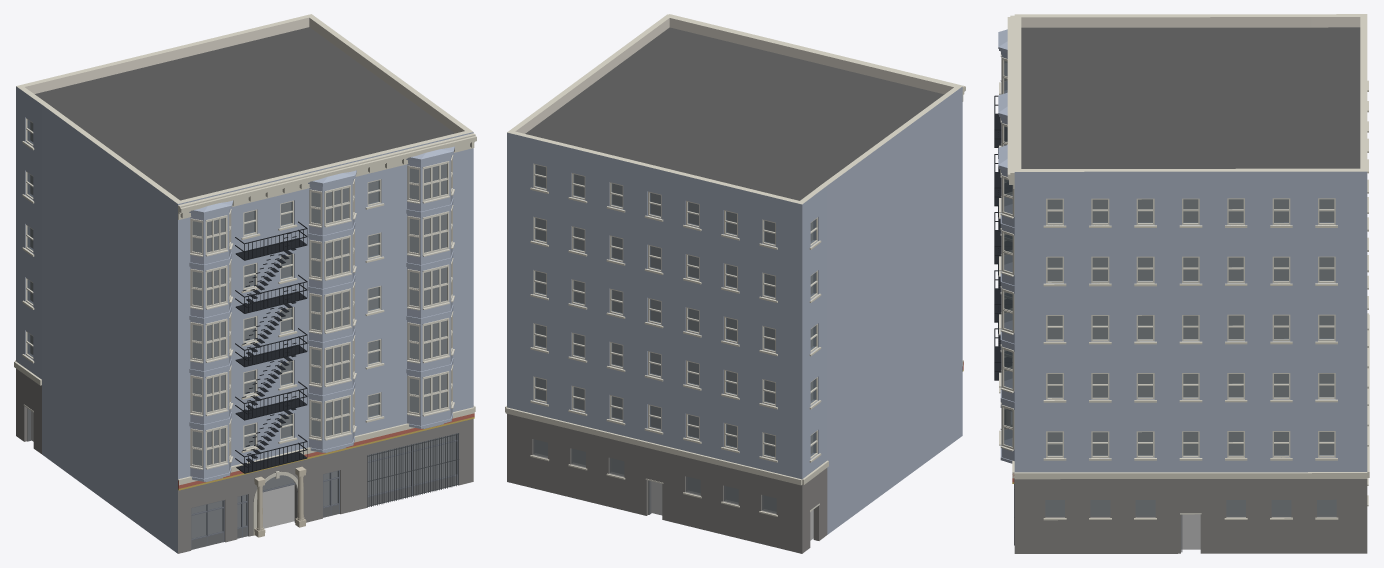
File: exterior.glb
The picture shows the model from 3 angles, left to right: view 1: azimuth 30°, elevation 25°; view 2: azimuth 150°, elevation 25°; view 3: azimuth 270°, elevation 25°; orthographic projection. The views are drawn at different scales.
Visible parts, largest first — view 1: shell, roof, bay-glazing-hyb, shadow-proxy, bay-windows-hyb, glazing, fire-escape, trim, storefront, frames, front-dressing, hand-ornament; view 2: shell, roof, glazing, shadow-proxy, frames, trim; view 3: shell, roof, glazing, shadow-proxy, trim, frames, bay-glazing-hyb, bay-windows-hyb, fire-escape.
Part boxes in pixels (bbox=[...]): shell: bbox=[16, 14, 473, 553]; roof: bbox=[35, 27, 454, 200]; bay-glazing-hyb: bbox=[190, 154, 454, 469]; shadow-proxy: bbox=[30, 122, 455, 538]; bay-windows-hyb: bbox=[189, 146, 454, 481]; glazing: bbox=[27, 120, 456, 538]; fire-escape: bbox=[235, 221, 307, 473]; trim: bbox=[14, 133, 476, 485]; storefront: bbox=[23, 404, 459, 549]; frames: bbox=[25, 118, 381, 449]; front-dressing: bbox=[178, 413, 474, 490]; hand-ornament: bbox=[254, 466, 306, 537]; shell: bbox=[507, 14, 962, 553]; roof: bbox=[525, 27, 944, 200]; glazing: bbox=[533, 165, 815, 513]; shadow-proxy: bbox=[535, 165, 813, 540]; frames: bbox=[533, 163, 817, 459]; trim: bbox=[505, 14, 965, 516]; shell: bbox=[1014, 14, 1367, 553]; roof: bbox=[1021, 27, 1360, 168]; glazing: bbox=[1045, 199, 1336, 516]; shadow-proxy: bbox=[1045, 199, 1336, 549]; trim: bbox=[1007, 15, 1369, 520]; frames: bbox=[1046, 198, 1335, 457]; bay-glazing-hyb: bbox=[999, 51, 1014, 451]; bay-windows-hyb: bbox=[998, 29, 1014, 463]; fire-escape: bbox=[994, 95, 1011, 380].
Size of the model in its own units: 19.11 by 21.29 by 18.95.
